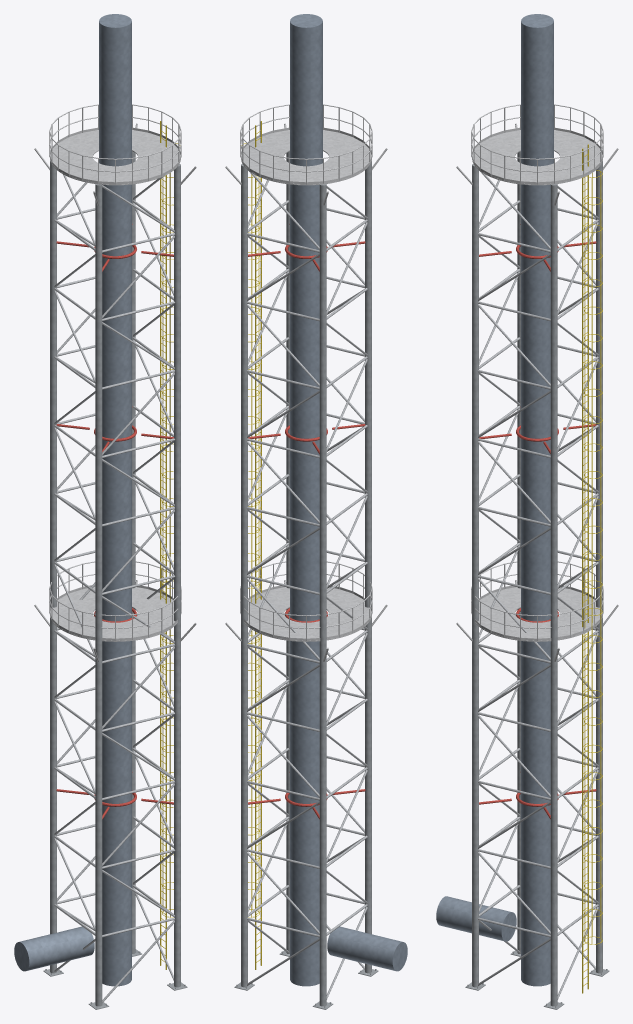
File: chimney-and-exhaust-support-structures.glb
The picture shows the model from 3 angles, left to right: view 1: azimuth 30°, elevation 25°; view 2: azimuth 150°, elevation 25°; view 3: azimuth 330°, elevation 25°; orthographic projection.
Visible parts, largest first — view 1: Stack(context), TowerLegs&BasePlates, LatticeBracing, Platforms, CagedLadder, StackGuideRings; view 2: Stack(context), TowerLegs&BasePlates, LatticeBracing, Platforms, CagedLadder, StackGuideRings; view 3: Stack(context), TowerLegs&BasePlates, LatticeBracing, Platforms, CagedLadder, StackGuideRings.
Boxes of the visible parts, box(x1,y1,x2,y2) form: Stack(context): box(14, 14, 131, 986); TowerLegs&BasePlates: box(43, 150, 187, 1009); LatticeBracing: box(54, 174, 175, 1002); Platforms: box(34, 104, 196, 661); CagedLadder: box(160, 121, 180, 969); StackGuideRings: box(56, 224, 173, 819); Stack(context): box(290, 14, 407, 986); TowerLegs&BasePlates: box(234, 150, 378, 1009); LatticeBracing: box(246, 170, 367, 999); Platforms: box(225, 104, 387, 661); CagedLadder: box(241, 121, 261, 969); StackGuideRings: box(248, 224, 365, 819); Stack(context): box(436, 14, 553, 986); TowerLegs&BasePlates: box(465, 150, 609, 1009); LatticeBracing: box(478, 170, 598, 999); Platforms: box(456, 104, 618, 661); CagedLadder: box(582, 144, 602, 993); StackGuideRings: box(479, 224, 596, 819).
Bounding box in the file's own units: 7.23 × 42.03 × 5.26.
6 materials, 6 textured.
